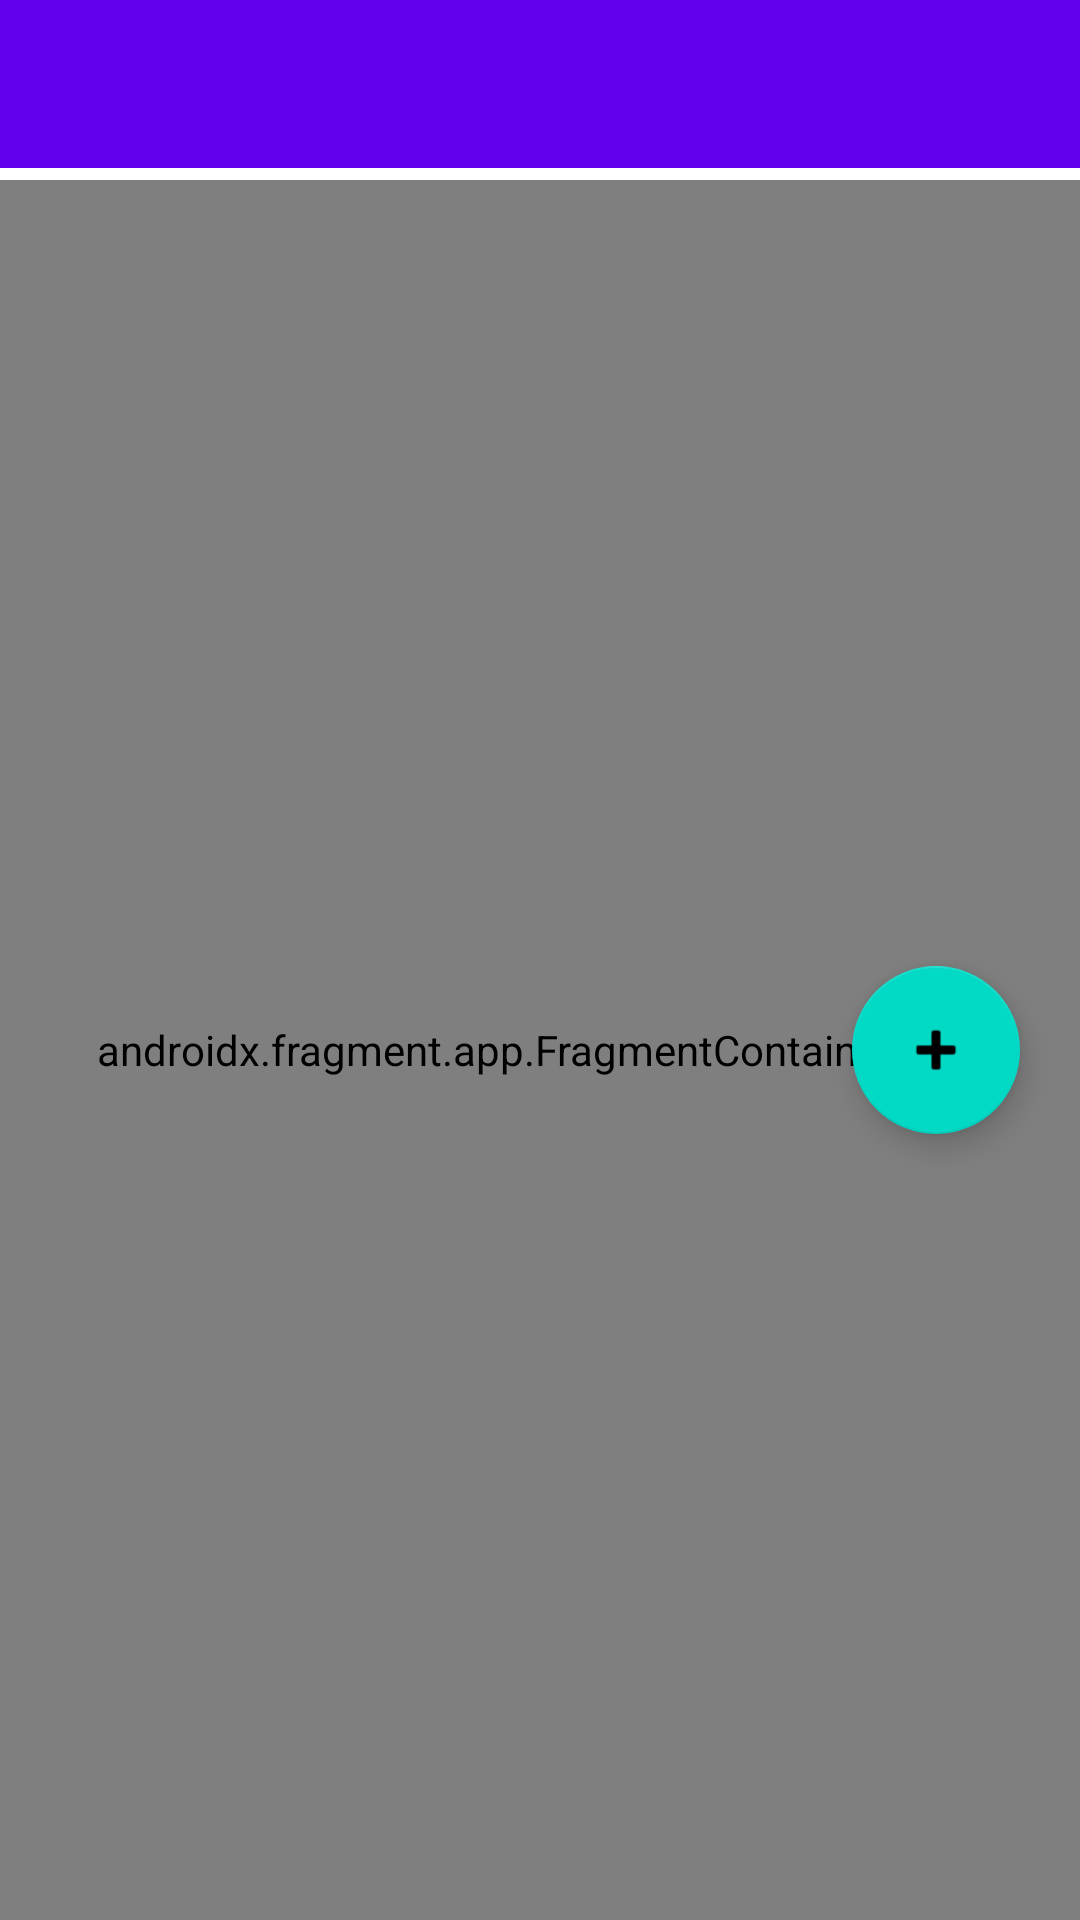

Screen size 1080*1920. Icon name, then its center in pixels as point (x, y):
add: point (936, 1050)
